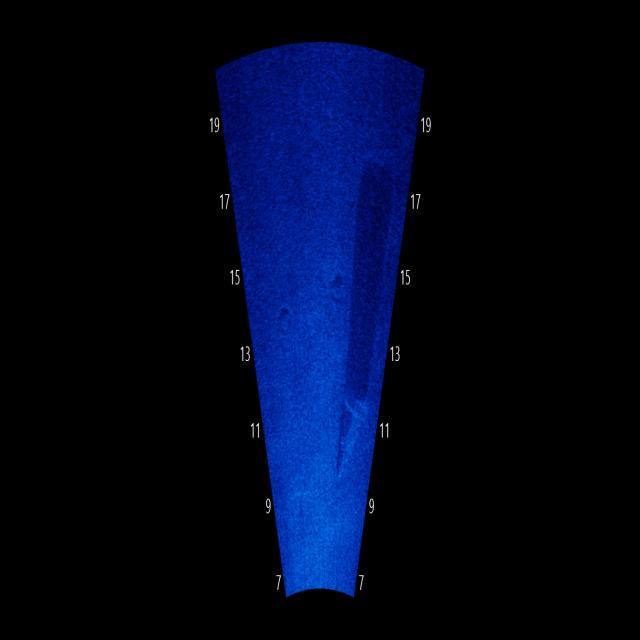circle: (273, 294, 296, 342), (327, 267, 348, 306)
triangle: (333, 378, 370, 485)
